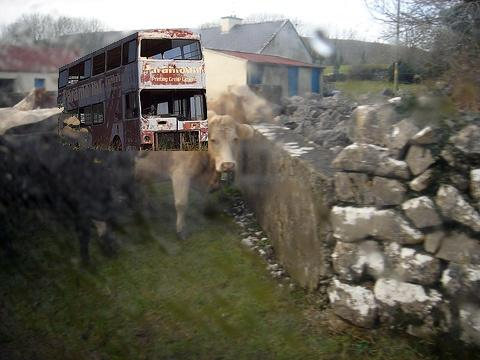tampered: (58, 30, 208, 151)
